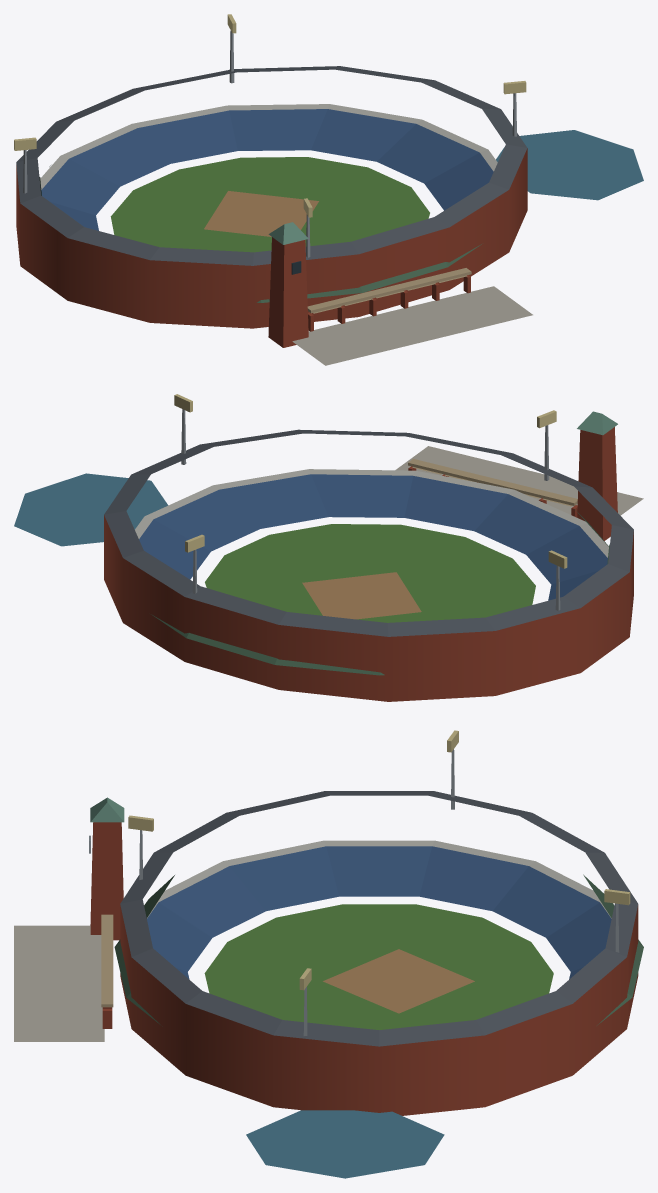
Rendered from mobile-low.glb.
3 renders of one model, top to bottom at view 1: azimuth 30°, elevation 25°; view 2: azimuth 150°, elevation 25°; view 3: azimuth 270°, elevation 25°, orthographic. The views are drawn at different scales.
Parts seen in each view (by area): view 1: lm.china-basin-ballpark; view 2: lm.china-basin-ballpark; view 3: lm.china-basin-ballpark.
Part boxes in pixels (left/top/right/bottom): lm.china-basin-ballpark: left=14, top=14, right=643, bottom=365; lm.china-basin-ballpark: left=14, top=394, right=643, bottom=701; lm.china-basin-ballpark: left=14, top=730, right=643, bottom=1178.
Bounding box in the file's own units: 268 × 52.4 × 222.
